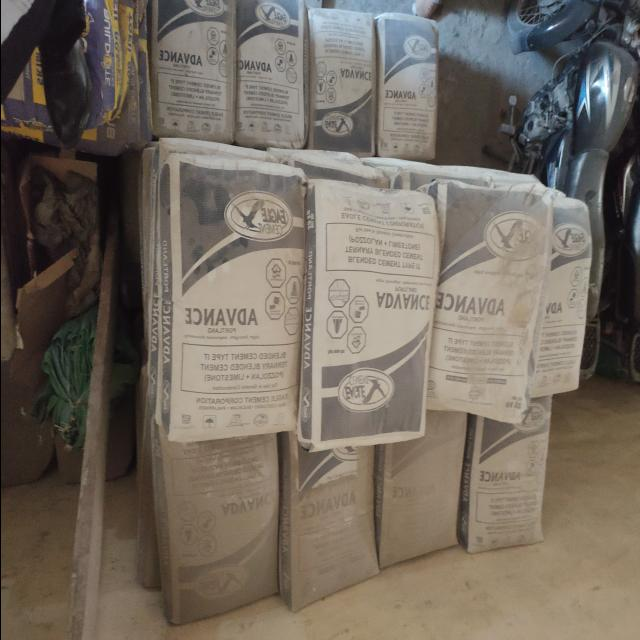Cement: (157, 148, 296, 424), (311, 184, 429, 436), (441, 181, 539, 427), (162, 433, 282, 610), (298, 444, 375, 594), (161, 1, 238, 139), (234, 2, 304, 140), (308, 5, 378, 143), (476, 422, 550, 550), (385, 424, 459, 552), (542, 205, 589, 382), (377, 13, 435, 151)
